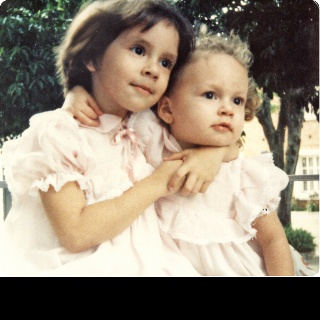without_mask: (98, 18, 179, 112), (173, 55, 248, 145)
